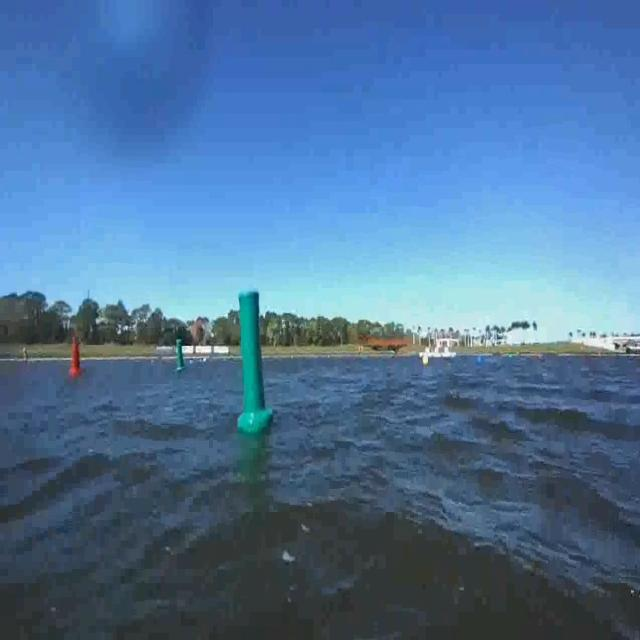green-column-buoy: (234, 285, 270, 433), (178, 338, 188, 372)
red-column-buoy: (70, 334, 84, 376)
